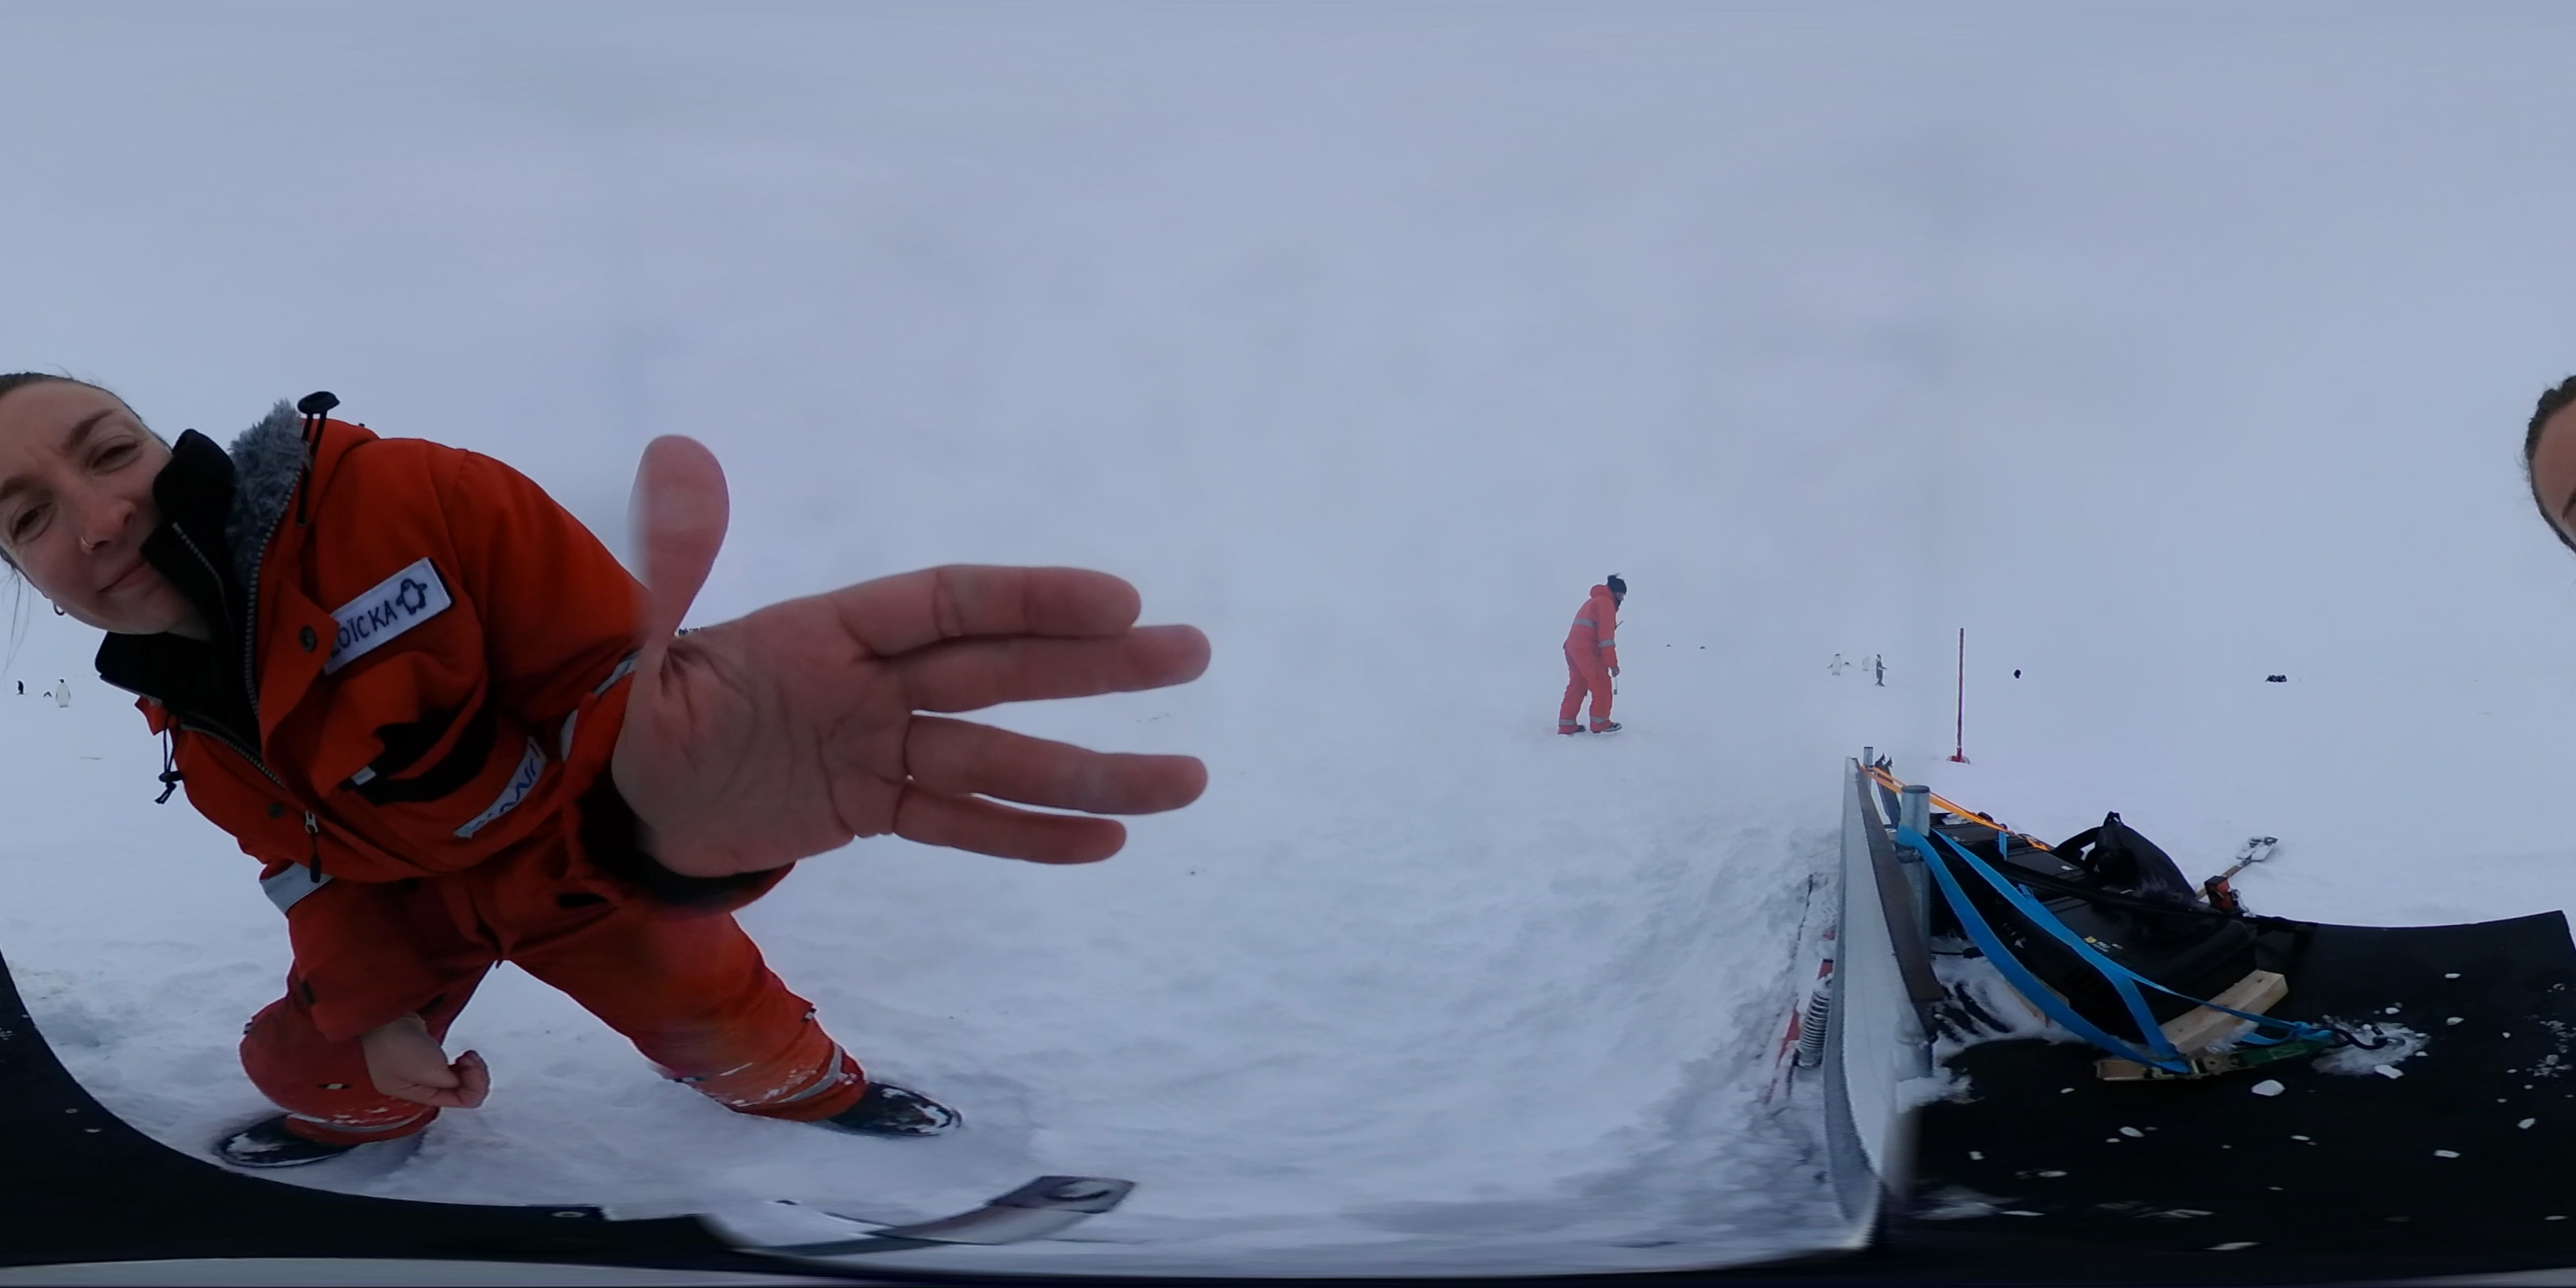adult_standing_penguin: (1825, 647, 1848, 678), (1873, 651, 1886, 687)
researcher: (0, 335, 987, 1171), (1562, 575, 1631, 736)
